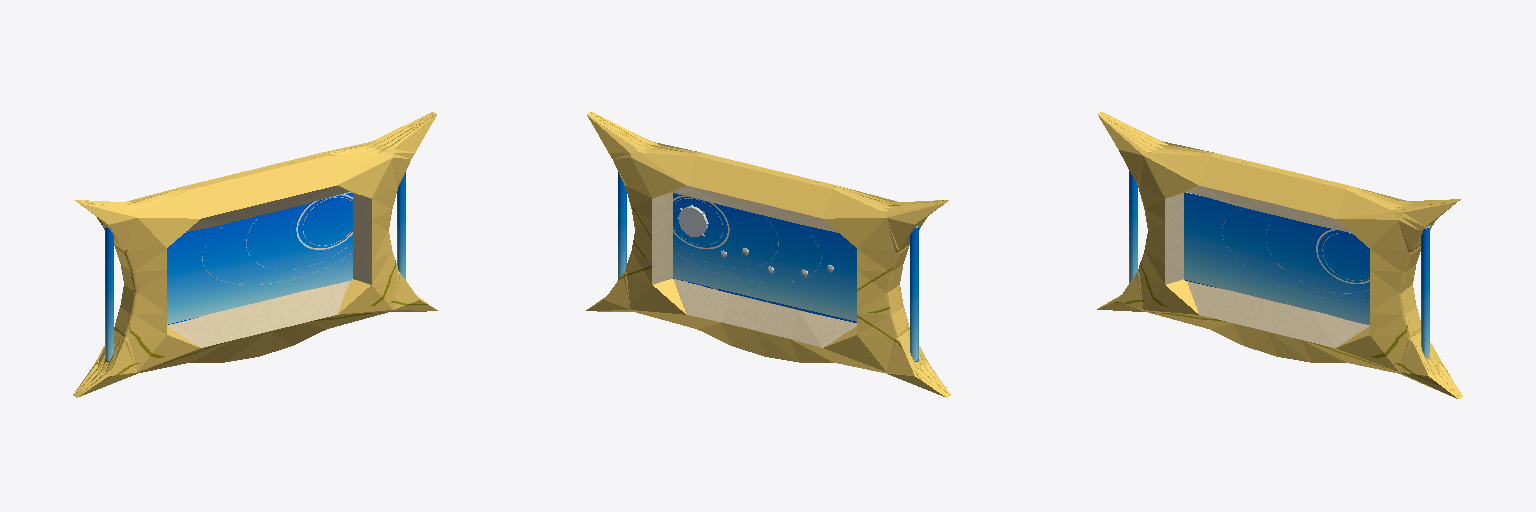
3 renders of one model, left to right at view 1: azimuth 30°, elevation 25°; view 2: azimuth 150°, elevation 25°; view 3: azimuth 330°, elevation 25°, orthographic.
Parts seen in each view (by area): view 1: polySurface4, pCube2; view 2: polySurface4, pCube2, pCylinder3; view 3: polySurface4, pCube2.
Boxes of the visible parts, <box> form: polySurface4: <box>73,112,437,397</box>; pCube2: <box>167,192,352,324</box>; polySurface4: <box>586,112,950,397</box>; pCube2: <box>673,192,856,322</box>; pCylinder3: <box>677,204,708,237</box>; polySurface4: <box>1097,112,1462,398</box>; pCube2: <box>1184,192,1369,324</box>.
Size of the model in its own units: 2.88 by 1.5 by 0.355.
Materials: 6 (5 with a texture image).